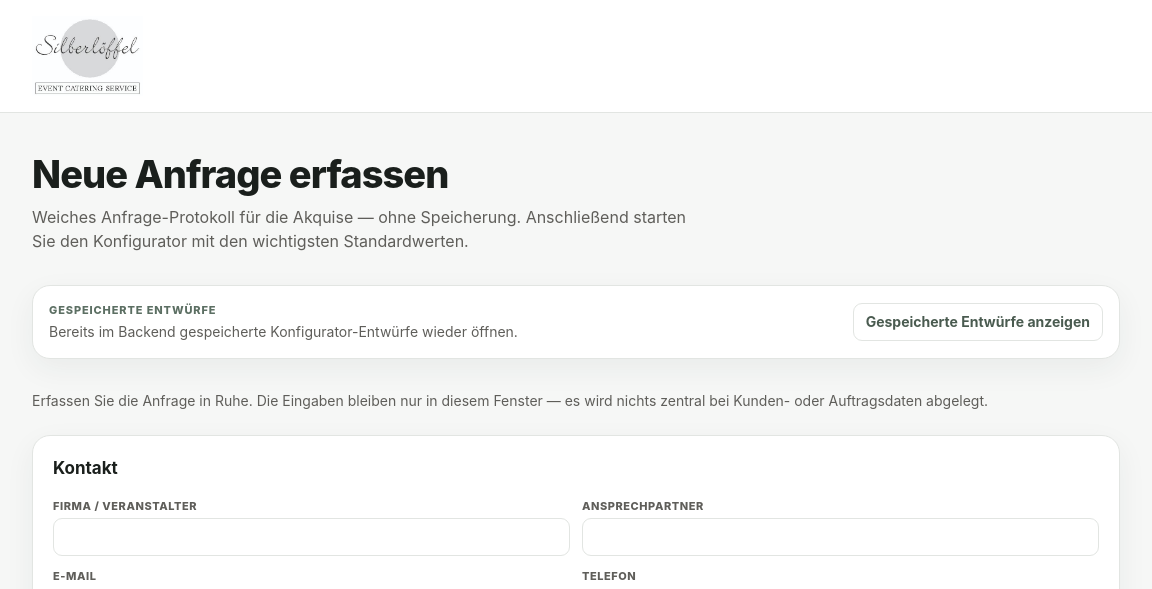
Test: saved backend draft restore › lists saved drafts only when requested and opens one into the configurator
The image size is (1152, 589).
Click the button "Gespeicherte Entwürfe anzeigen": (978, 322) [853,303,1103,341]
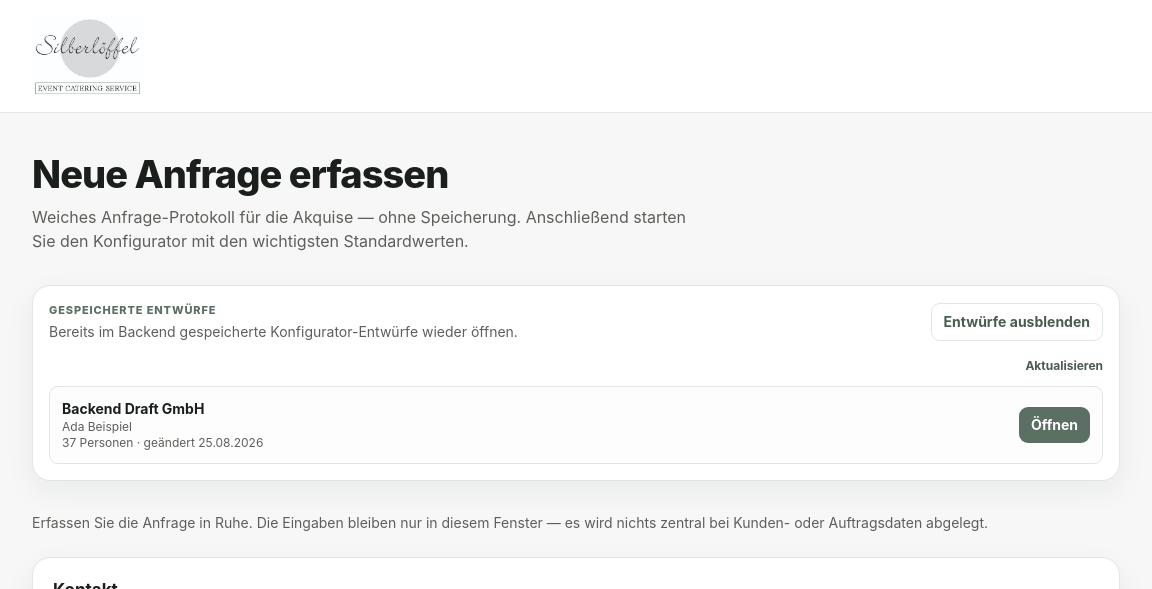
Result: the text "Backend Draft GmbH" is shown at [62,400,204,417]
Click the button "Öffnen": (1054, 425) [1019,407,1090,443]
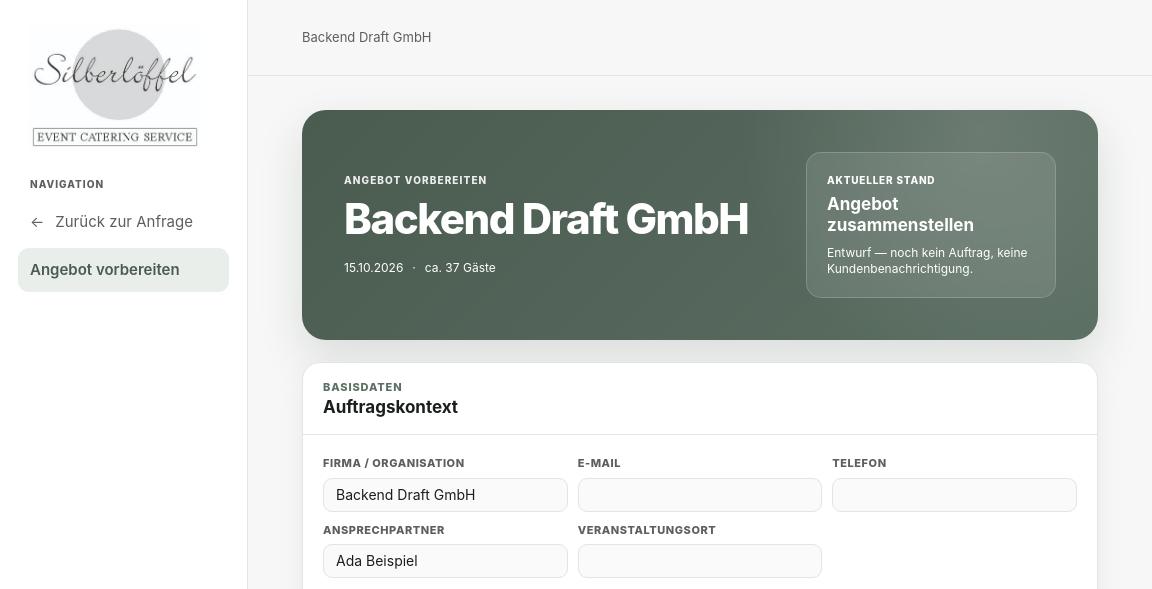
Result: the field showing "Backend Draft GmbH" is shown at [323,478,568,512]
Result: the field showing "Ada Beispiel" is shown at [323,544,568,578]
